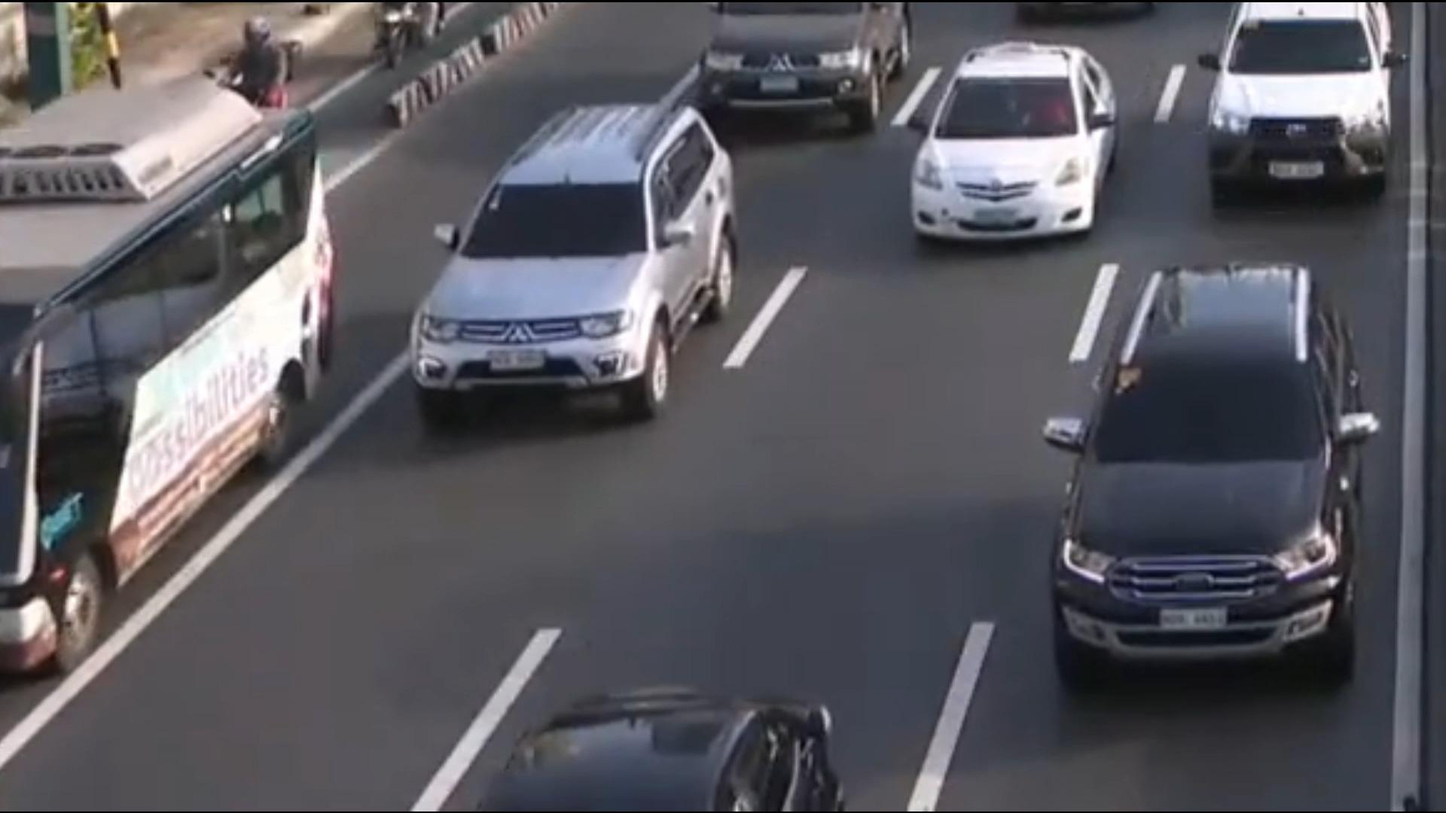Bus: (0, 74, 351, 695)
SUV: (1036, 249, 1405, 712), (413, 95, 755, 466), (1198, 0, 1411, 235), (689, 0, 920, 131)
Sedan: (869, 38, 1148, 270)
